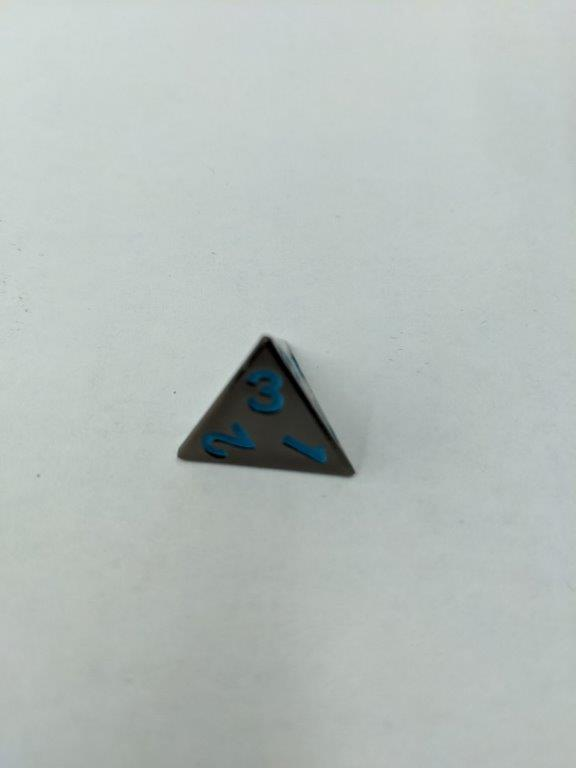d4-3: (172, 328, 360, 484)
